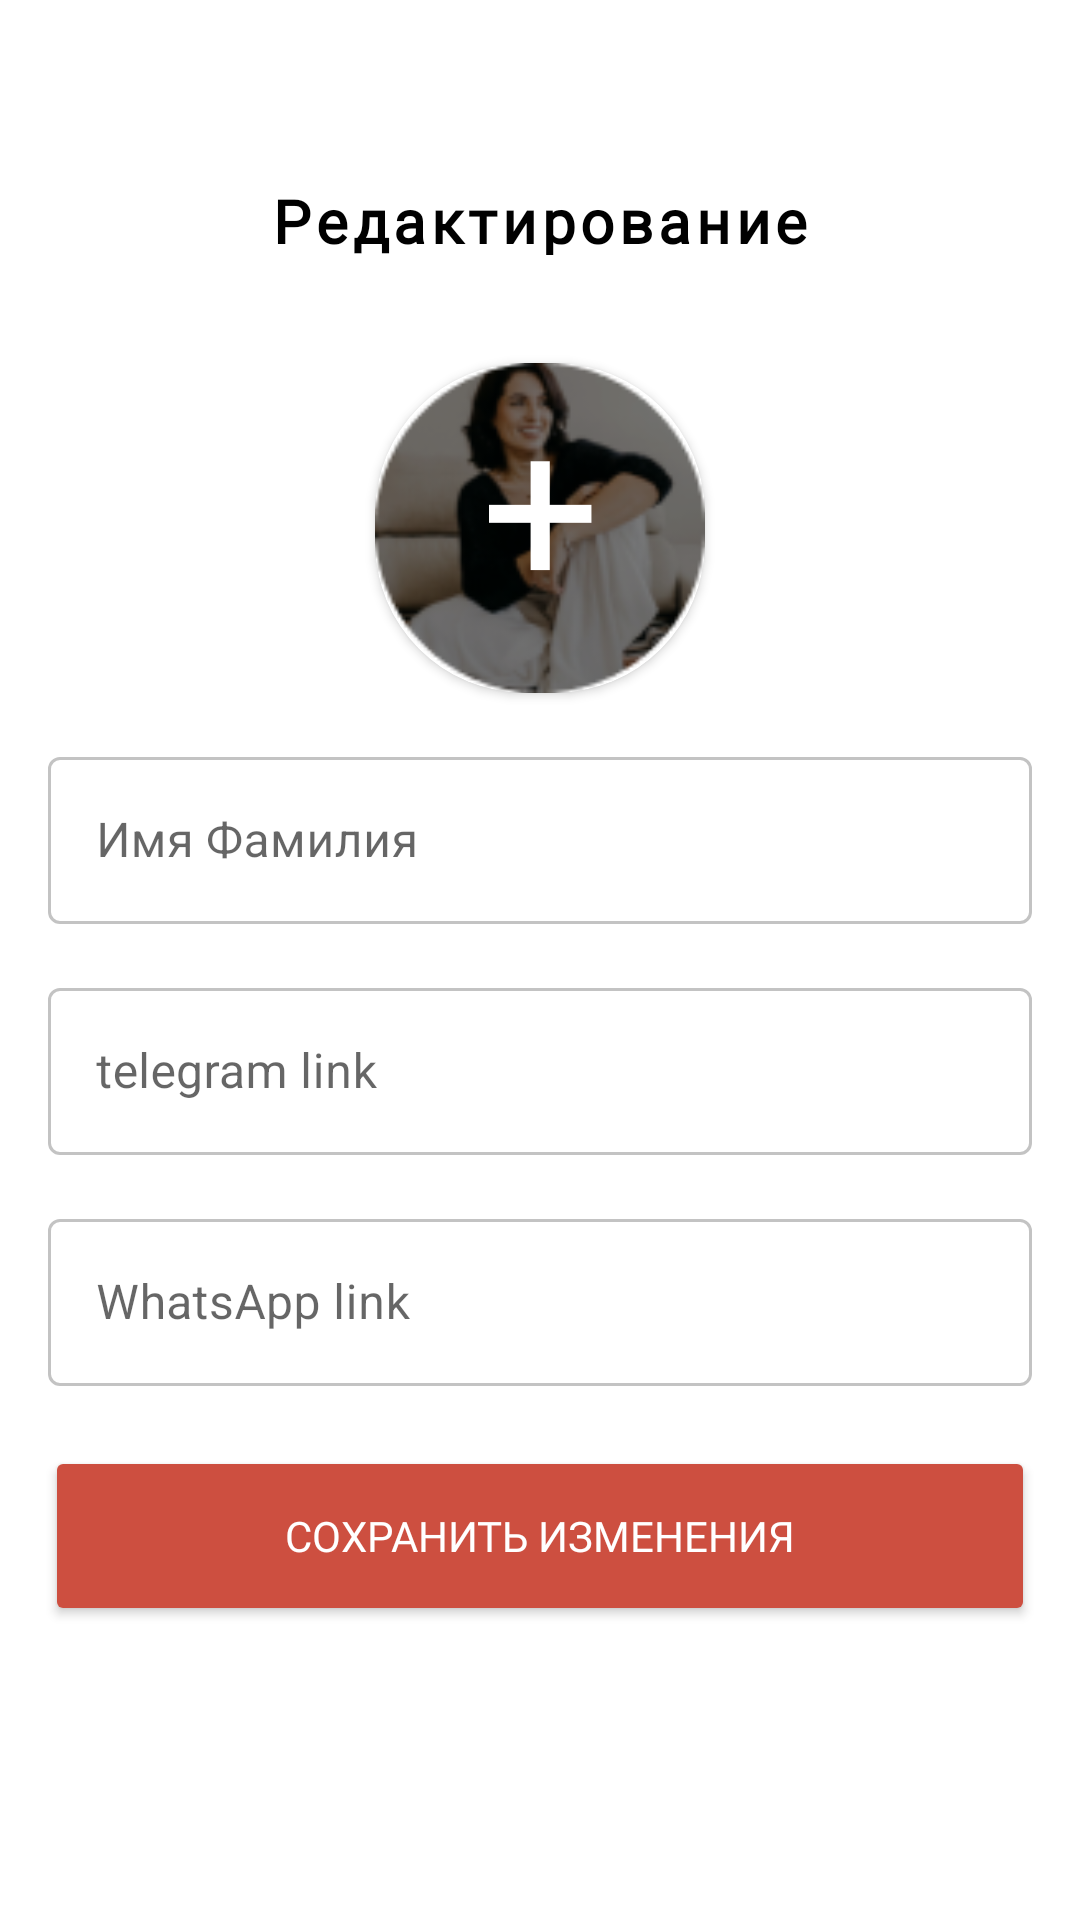

Icon bounding boxes for this 1080x1920 phone screenshot, format {"left": x1, "top": y1, "right": x2, "bottom": y2}:
user: {"left": 375, "top": 363, "right": 705, "bottom": 693}
